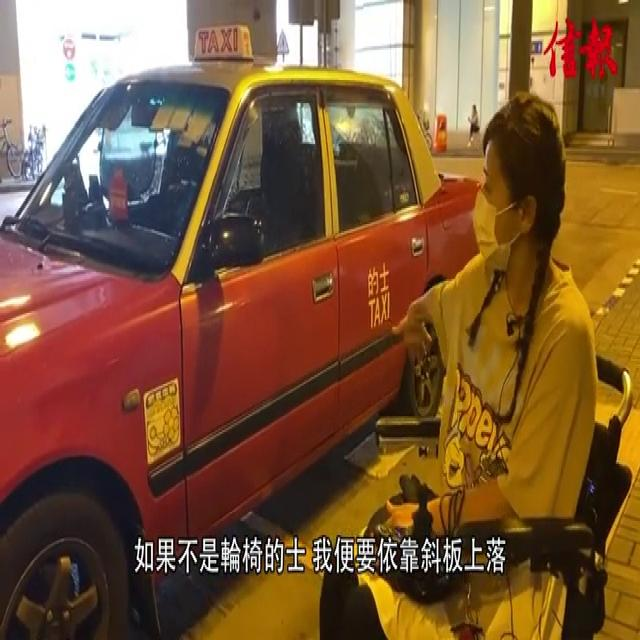wheelchairs: (373, 323, 634, 640)
